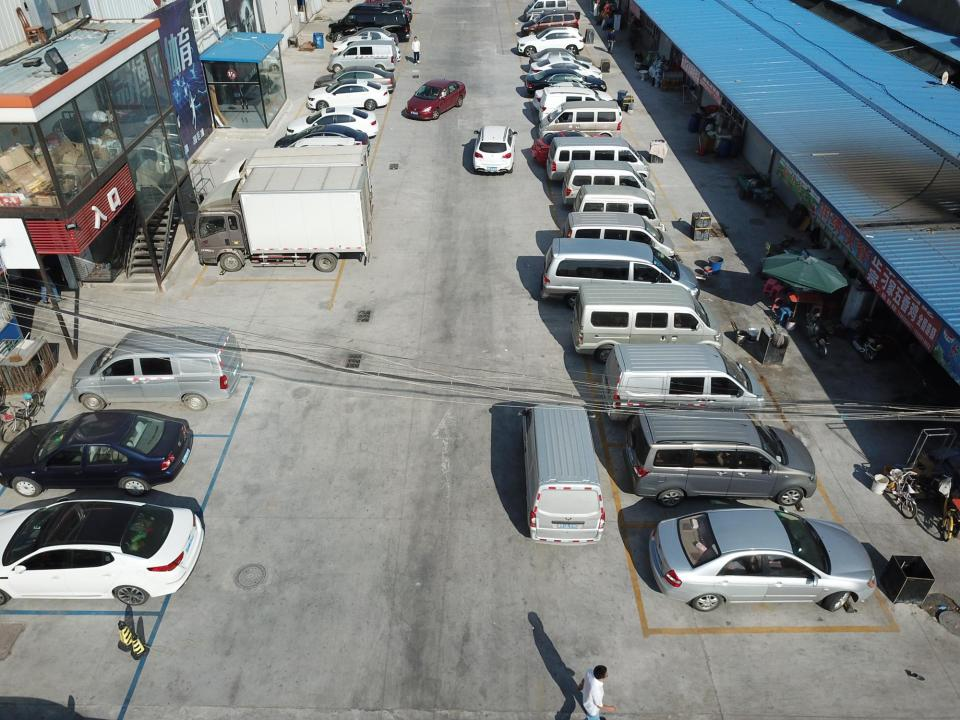car: (650, 506, 876, 611), (0, 496, 206, 605), (0, 409, 193, 493), (288, 106, 378, 142), (534, 129, 615, 166), (306, 79, 389, 112), (273, 128, 370, 156), (405, 78, 466, 120), (532, 80, 603, 115), (471, 124, 516, 176), (524, 68, 604, 97), (314, 66, 396, 93), (530, 57, 604, 83), (519, 27, 582, 56), (333, 36, 401, 62), (528, 51, 596, 76), (336, 28, 398, 48), (357, 5, 413, 24)
truck: (194, 169, 370, 273), (229, 148, 373, 228)
van: (626, 406, 818, 505), (67, 326, 239, 411), (518, 402, 606, 546), (604, 343, 764, 422), (573, 284, 723, 362), (543, 236, 700, 306), (564, 210, 676, 270), (562, 159, 657, 213), (573, 186, 665, 240), (549, 137, 651, 183), (539, 100, 620, 146), (543, 87, 622, 130), (328, 3, 410, 43), (279, 137, 358, 175), (329, 40, 396, 74), (522, 10, 580, 41), (518, 1, 568, 25)
